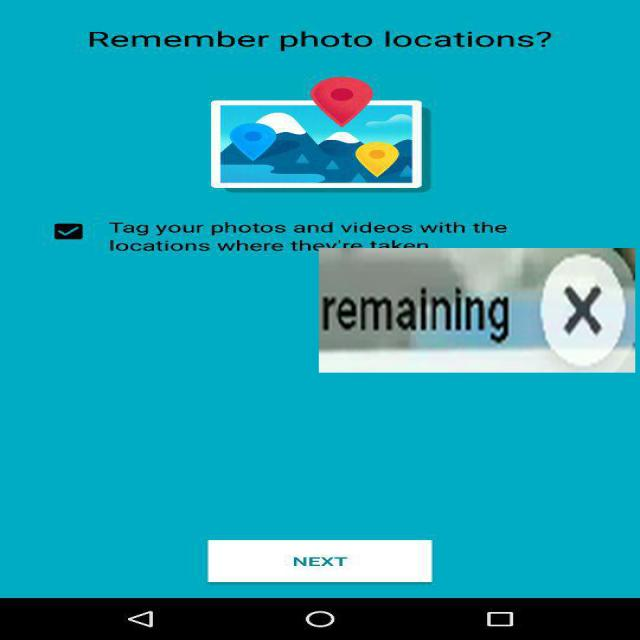misdirection: (319, 248, 635, 373)
